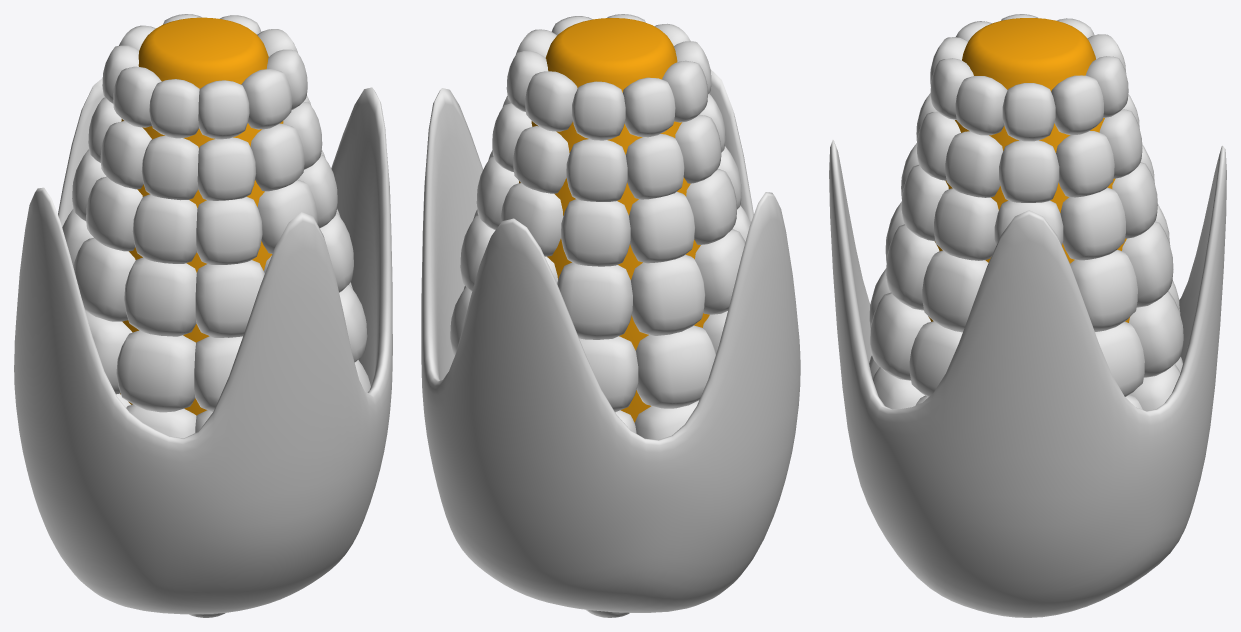
Rendered from Giant_Corn.fbx.
The picture shows the model from 3 angles, left to right: view 1: azimuth 30°, elevation 25°; view 2: azimuth 150°, elevation 25°; view 3: azimuth 270°, elevation 25°; orthographic projection.
Parts seen in each view (by area): view 1: Giant_Corn; view 2: Giant_Corn; view 3: Giant_Corn.
Part boxes in pixels (x1,y1,x2,y2): Giant_Corn: (14, 14, 392, 617); Giant_Corn: (421, 14, 800, 617); Giant_Corn: (829, 14, 1226, 617).
Bounding box in the file's own units: 215 × 351 × 222.
